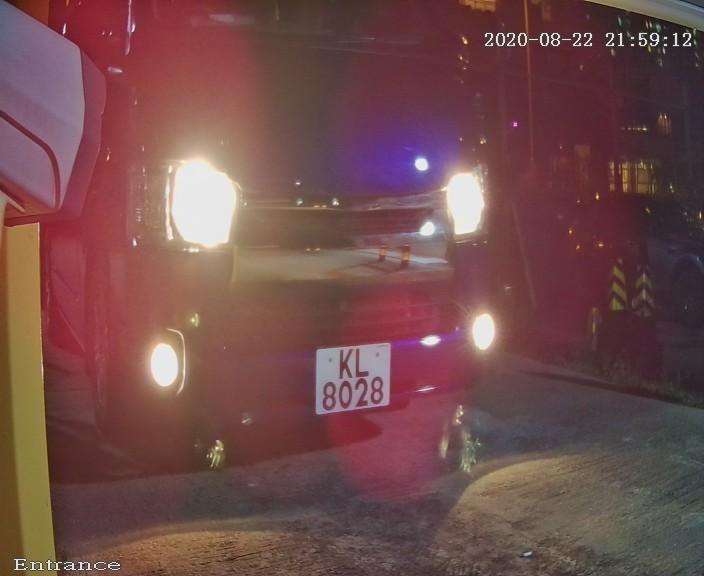Car: (26, 8, 607, 538)
License Plate: (309, 340, 397, 420)
